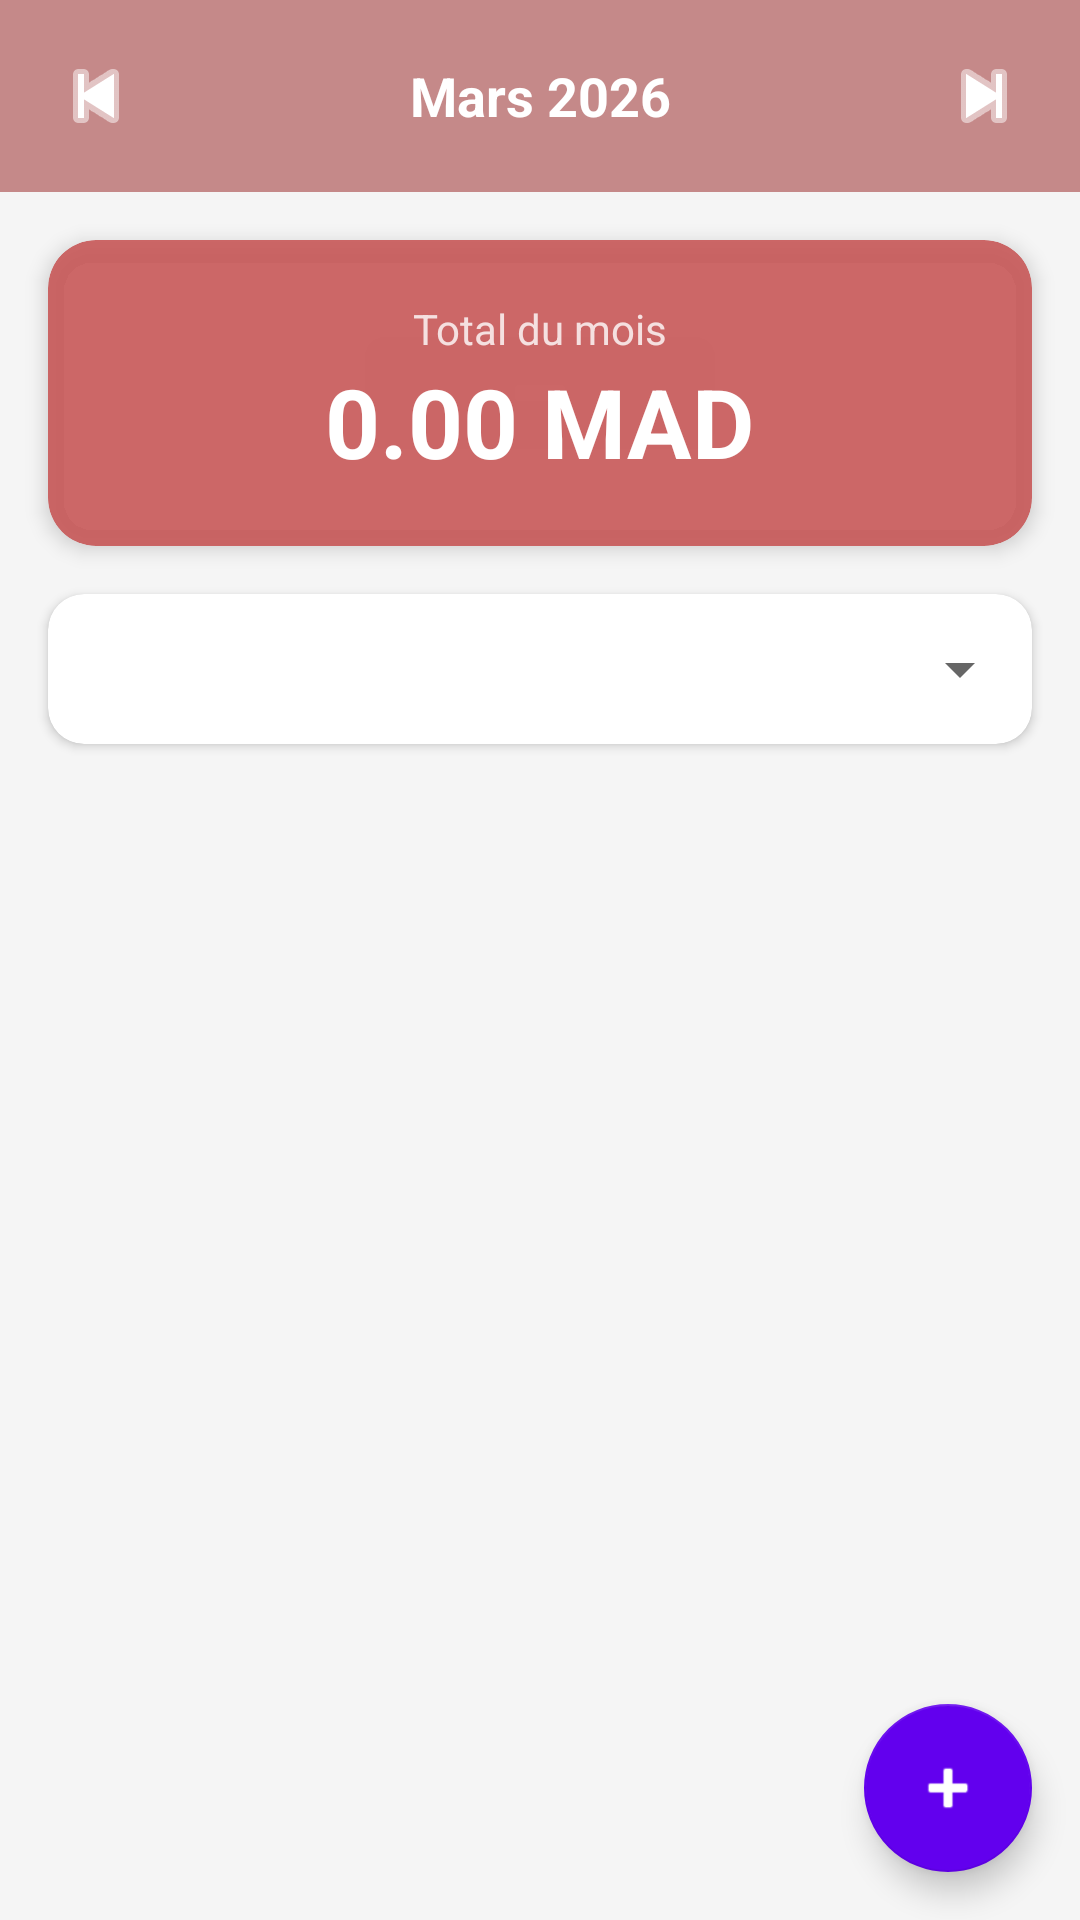

Icon click points for this 1080px×1920px phone screenshot, format point (x, y):
add: point (948, 1788)
next: point (984, 96)
previous: point (96, 96)
